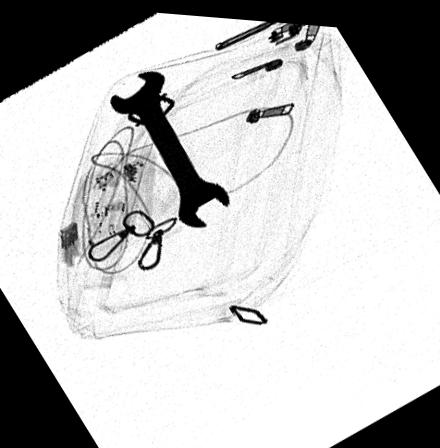Wrench: (107, 66, 229, 224)
